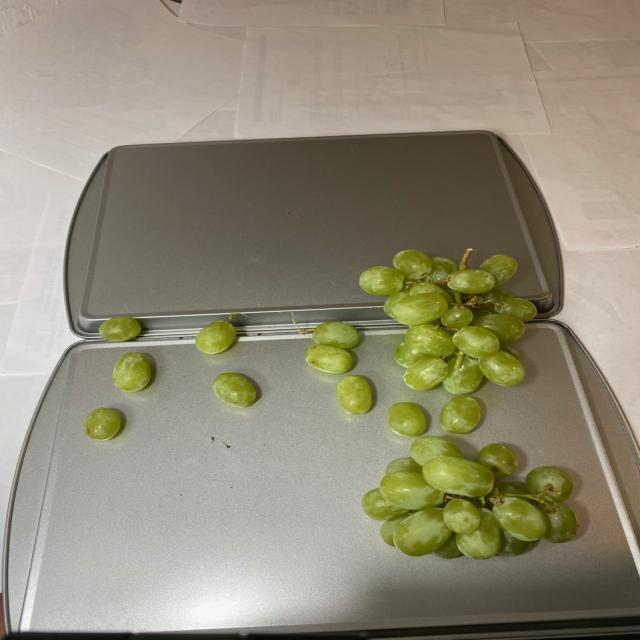grapes: (309, 247, 583, 557), (86, 314, 260, 432)
